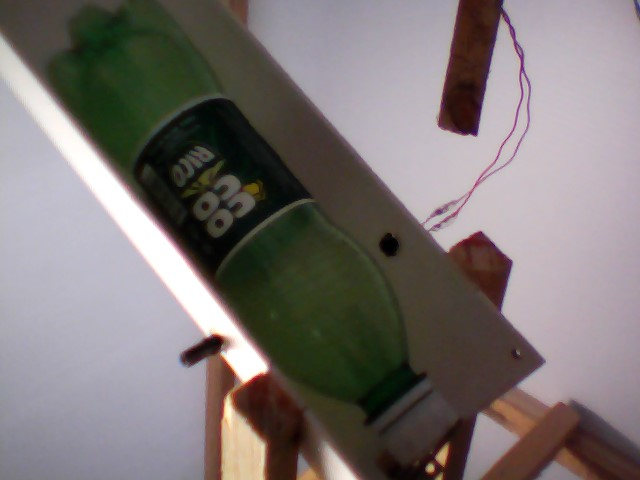plastico: (42, 1, 467, 471)
